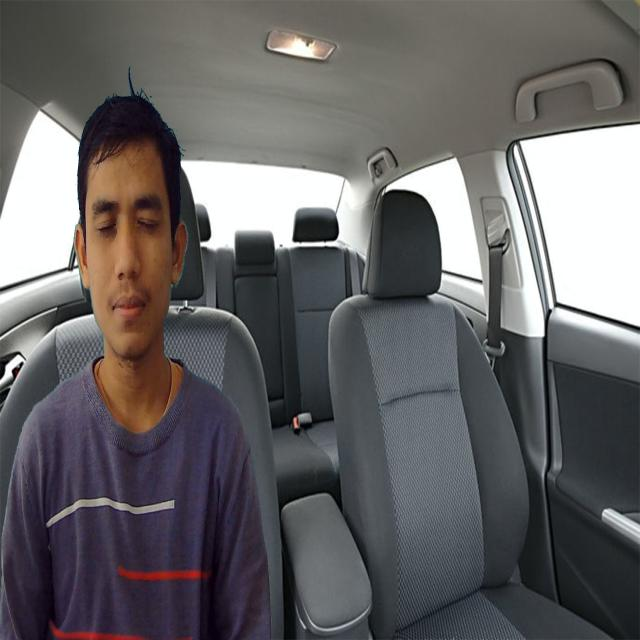no-seatbelt: (81, 138, 175, 365)
